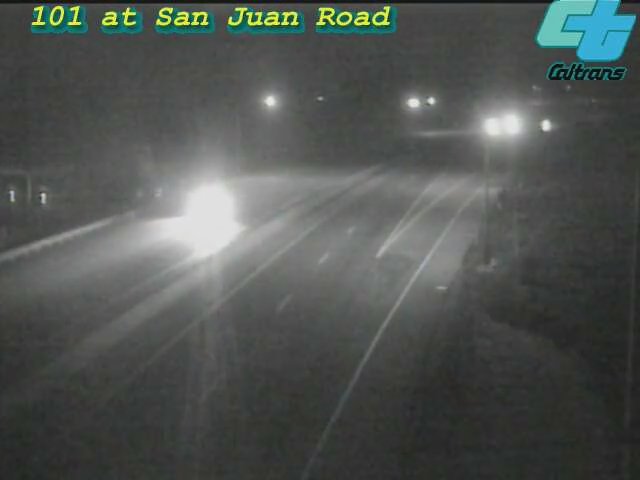vehicle: (173, 163, 253, 243), (520, 102, 570, 152), (467, 102, 517, 152), (485, 100, 535, 150)
